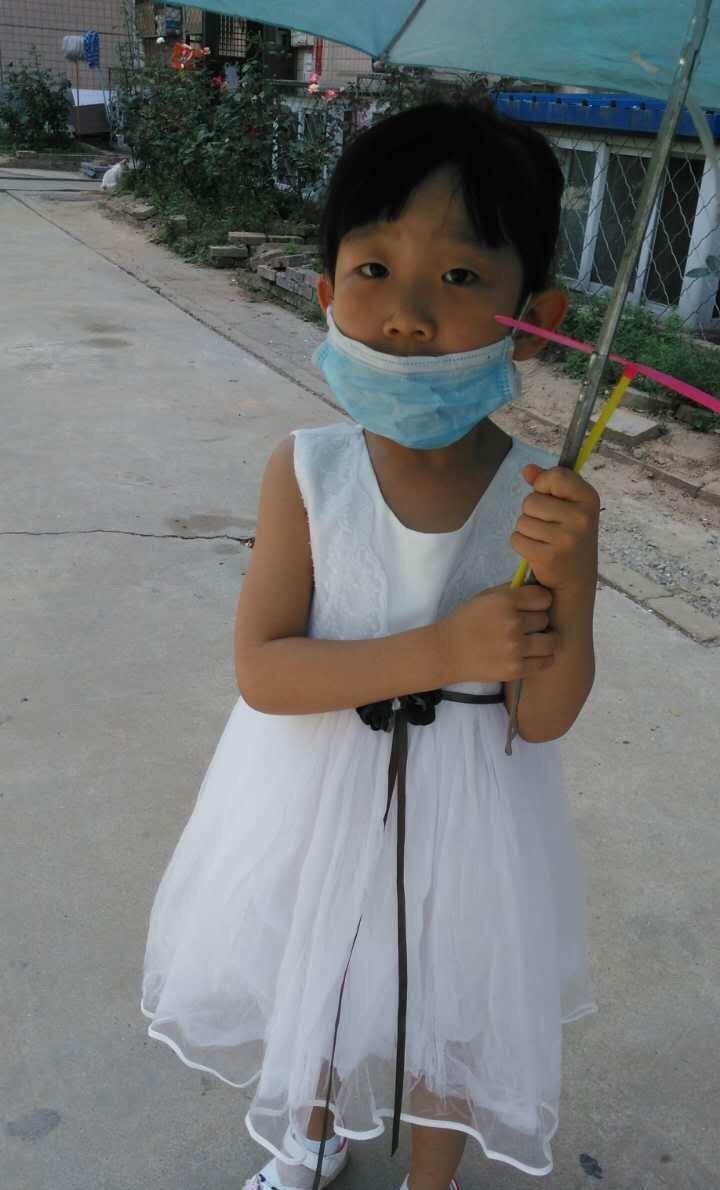WRONG: (321, 221, 541, 441)
